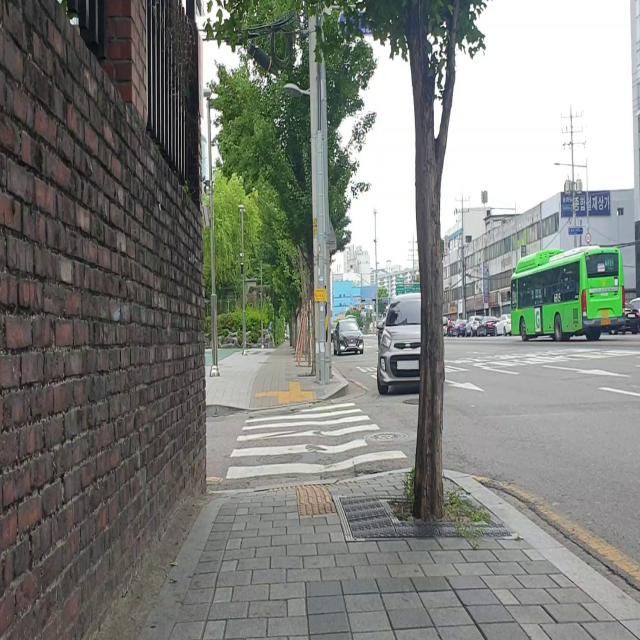횡단보도: (224, 400, 408, 480)
